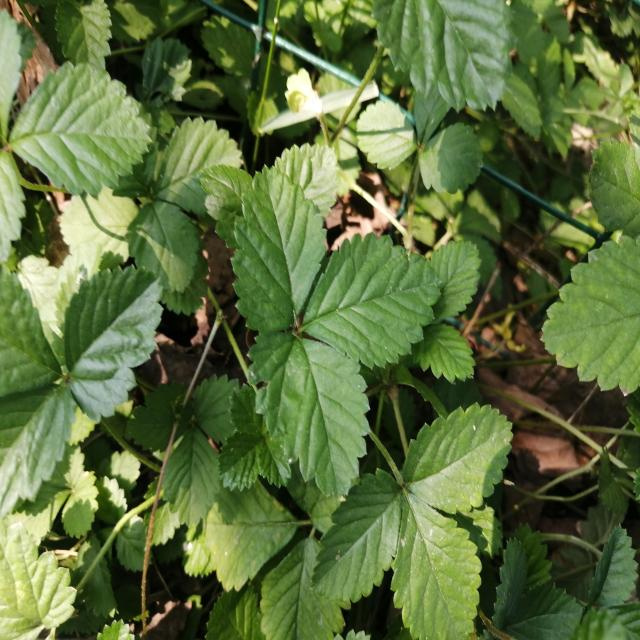Mock_strawberry: (4, 51, 216, 340)
